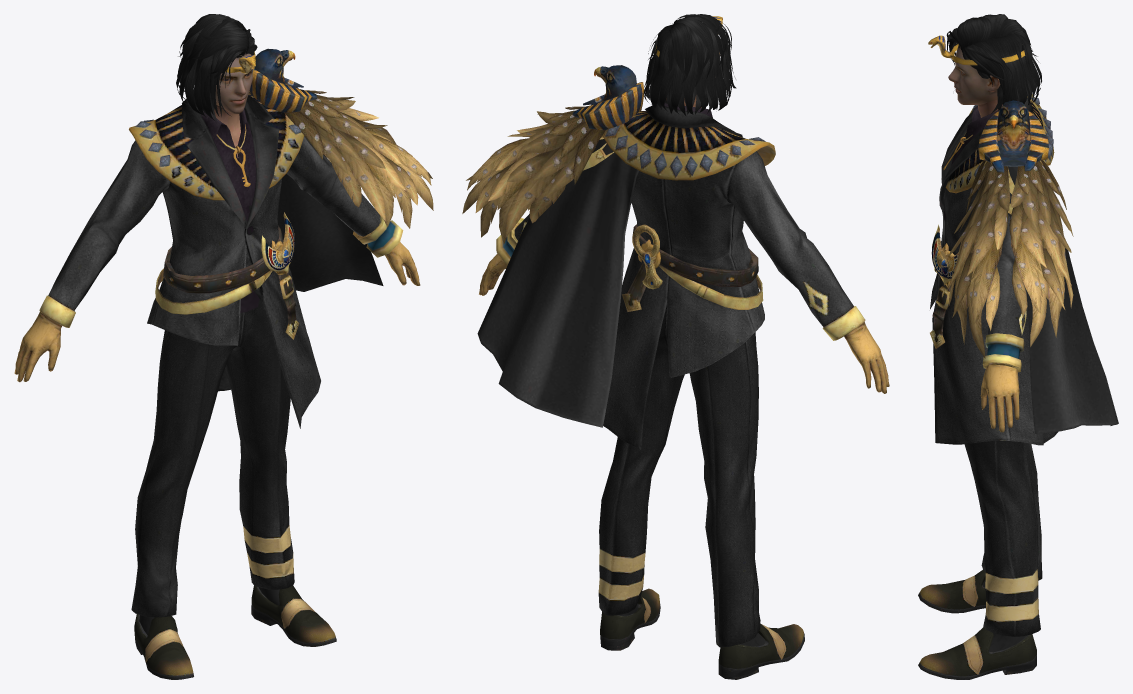
File: MaleImperialEgypt[Blender-Render][Mouthed].fbx
The picture shows the model from 3 angles, left to right: view 1: azimuth 30°, elevation 25°; view 2: azimuth 150°, elevation 25°; view 3: azimuth 270°, elevation 25°; orthographic projection.
Parts seen in each view (by area): view 1: Male_Lobby_Top_Cos_Imperialegypt_1, Male_Lobby_Bottom_Cos_Imperialegypt_0, Male_Lobby_Shoe_Cos_Imperialegypt_0, Male_Lobby_Hair_Cos_Imperialegypt_1, Male_Lobby_Head_Cos_Imperialegypt_0.001; view 2: Male_Lobby_Top_Cos_Imperialegypt_1, Male_Lobby_Bottom_Cos_Imperialegypt_0, Male_Lobby_Hair_Cos_Imperialegypt_1, Male_Lobby_Shoe_Cos_Imperialegypt_0; view 3: Male_Lobby_Top_Cos_Imperialegypt_1, Male_Lobby_Bottom_Cos_Imperialegypt_0, Male_Lobby_Shoe_Cos_Imperialegypt_0, Male_Lobby_Hair_Cos_Imperialegypt_1, Male_Lobby_Head_Cos_Imperialegypt_0.001, Male_Lobby_Hair_Cos_Imperialegypt_0.
Boxes of the visible parts, x1,y1,x2,y2 form: Male_Lobby_Top_Cos_Imperialegypt_1: (14, 48, 433, 428); Male_Lobby_Bottom_Cos_Imperialegypt_0: (131, 285, 294, 634); Male_Lobby_Shoe_Cos_Imperialegypt_0: (134, 585, 336, 679); Male_Lobby_Hair_Cos_Imperialegypt_1: (176, 14, 257, 121); Male_Lobby_Head_Cos_Imperialegypt_0.001: (215, 53, 252, 114); Male_Lobby_Top_Cos_Imperialegypt_1: (462, 65, 889, 449); Male_Lobby_Bottom_Cos_Imperialegypt_0: (598, 304, 765, 647); Male_Lobby_Hair_Cos_Imperialegypt_1: (643, 14, 736, 115); Male_Lobby_Shoe_Cos_Imperialegypt_0: (600, 588, 804, 679); Male_Lobby_Top_Cos_Imperialegypt_1: (930, 94, 1118, 445); Male_Lobby_Bottom_Cos_Imperialegypt_0: (964, 440, 1042, 652); Male_Lobby_Shoe_Cos_Imperialegypt_0: (918, 570, 1036, 679); Male_Lobby_Hair_Cos_Imperialegypt_1: (946, 14, 1041, 113); Male_Lobby_Head_Cos_Imperialegypt_0.001: (948, 44, 1022, 104); Male_Lobby_Hair_Cos_Imperialegypt_0: (928, 35, 1025, 65).
Bounding box in the file's own units: 66.97 × 97.61 × 28.64.
